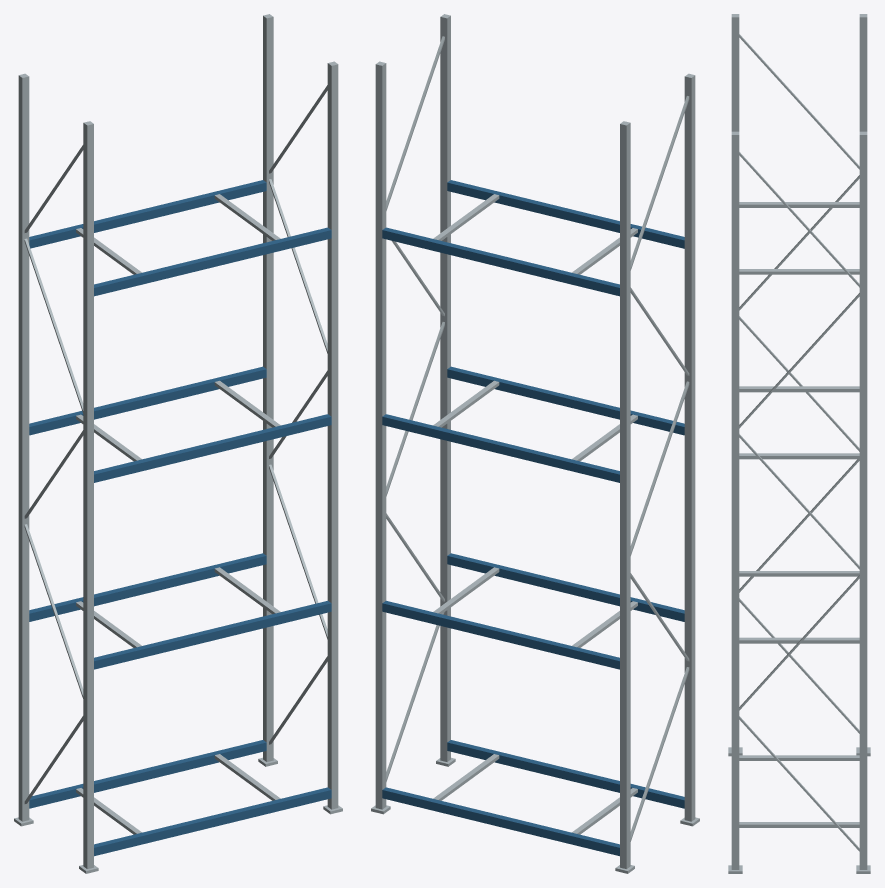
File: beam-rack-4.glb
3 renders of one model, left to right at view 1: azimuth 30°, elevation 25°; view 2: azimuth 150°, elevation 25°; view 3: azimuth 270°, elevation 25°, orthographic.
Visible parts, largest first — view 1: beam-rack-4_galvanized_steel, beam-rack-4_beam_blue; view 2: beam-rack-4_galvanized_steel, beam-rack-4_beam_blue; view 3: beam-rack-4_galvanized_steel.
Part boxes in pixels (x1=…): beam-rack-4_galvanized_steel: x1=14, y1=14, x2=342, y2=873; beam-rack-4_beam_blue: x1=29, y1=180, x2=331, y2=856; beam-rack-4_galvanized_steel: x1=371, y1=14, x2=699, y2=873; beam-rack-4_beam_blue: x1=382, y1=180, x2=684, y2=856; beam-rack-4_galvanized_steel: x1=728, y1=14, x2=870, y2=873.
Size of the model in its own units: 2.88 by 8 by 1.4.
